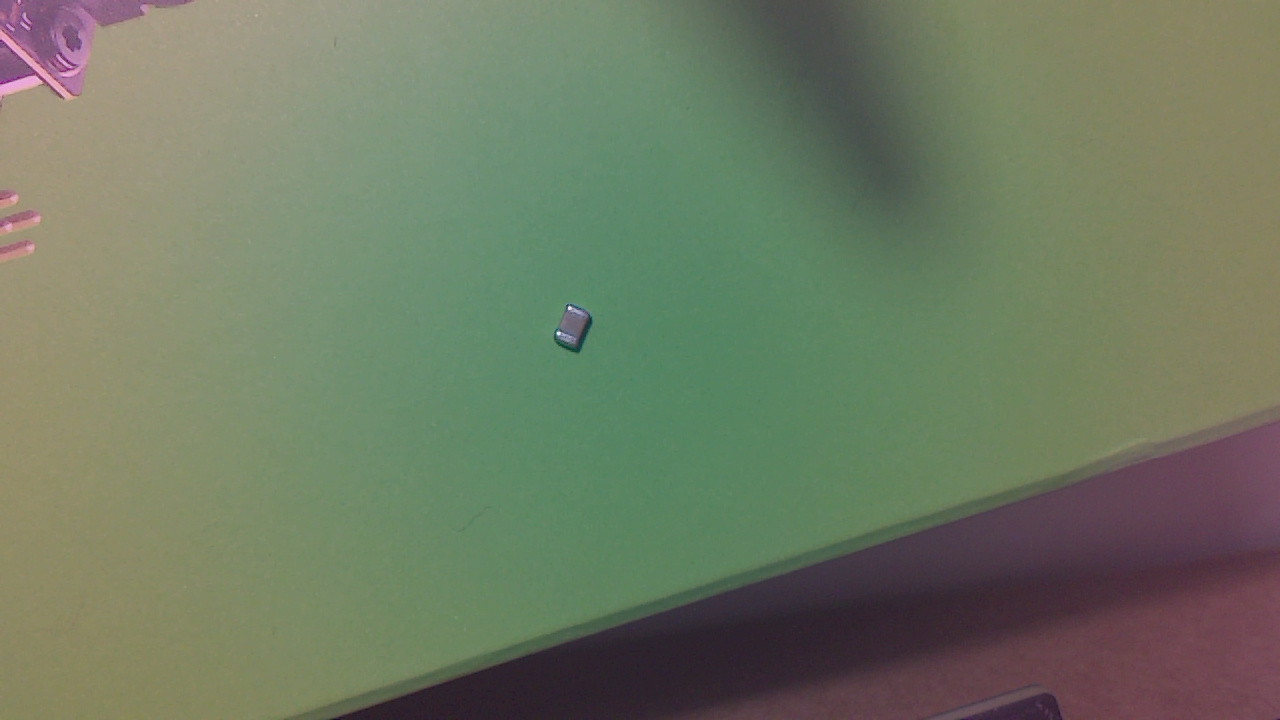Condensator: (558, 307, 598, 357)
